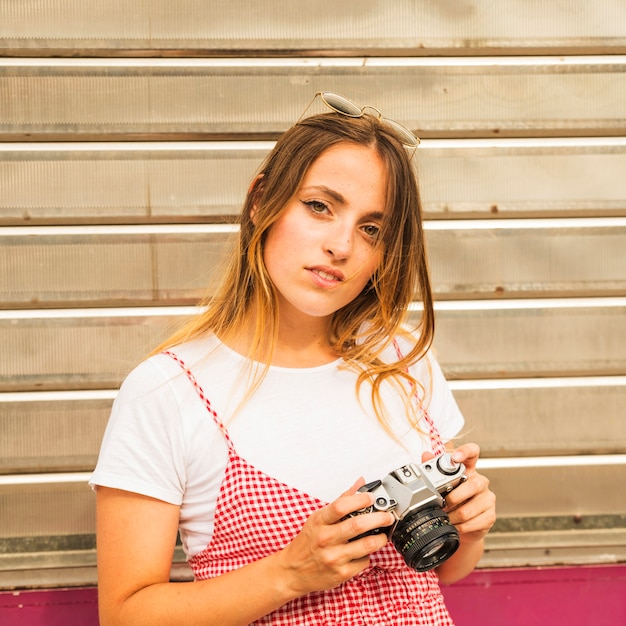teen: (248, 91, 418, 355)
